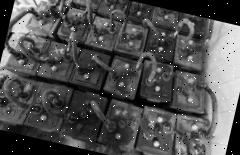electronic: (66, 46, 112, 94)
